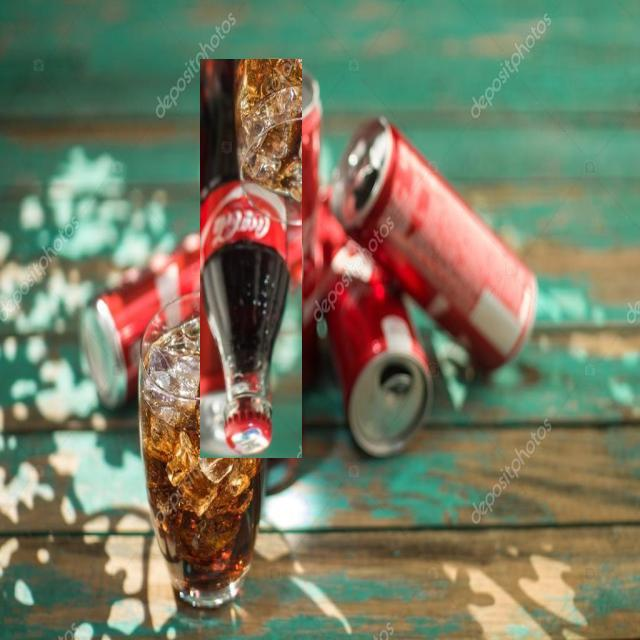coca-cola: (200, 59, 302, 458)
